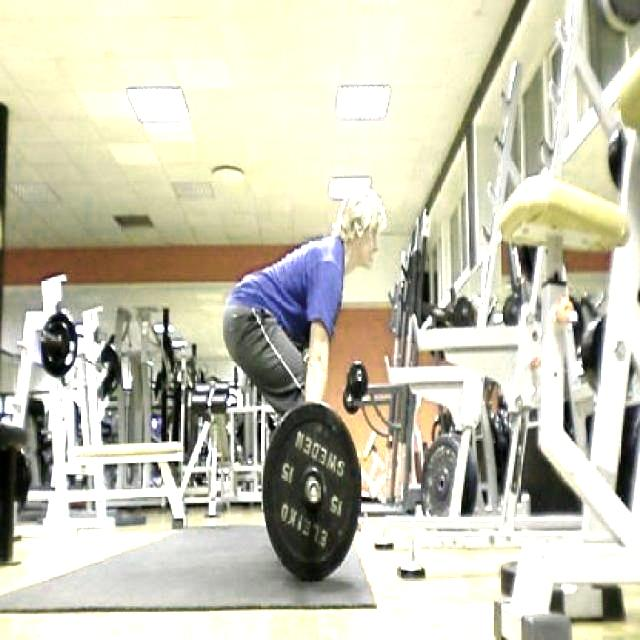barbell: (257, 397, 365, 589)
